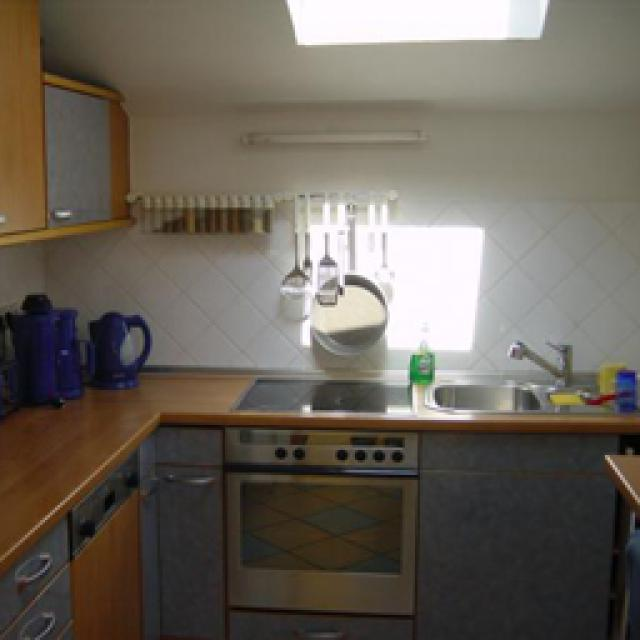2001: (282, 0, 542, 42)
bottle crop: (405, 328, 432, 378)
bottles occluded: (20, 285, 80, 405), (125, 188, 262, 228)
cabinet door: (412, 428, 615, 635), (132, 425, 222, 638), (0, 518, 72, 638)
ceiling beam: (40, 0, 635, 112)
counter bottom: (2, 365, 258, 562), (608, 450, 635, 510)
cups: (595, 360, 635, 392)
dishwasher: (68, 445, 138, 638)
hanging utensils: (275, 185, 348, 302)
lamp crop: (242, 130, 418, 142)
oven cloth: (222, 428, 415, 610)
pan: (308, 200, 385, 352)
pitcher: (85, 308, 148, 388)
rack: (132, 215, 270, 238), (265, 185, 395, 202)
sink basin: (422, 378, 542, 410)
sink occluded: (510, 335, 570, 385)
sponge cake: (548, 390, 580, 405)
stove burner: (228, 375, 412, 412)
